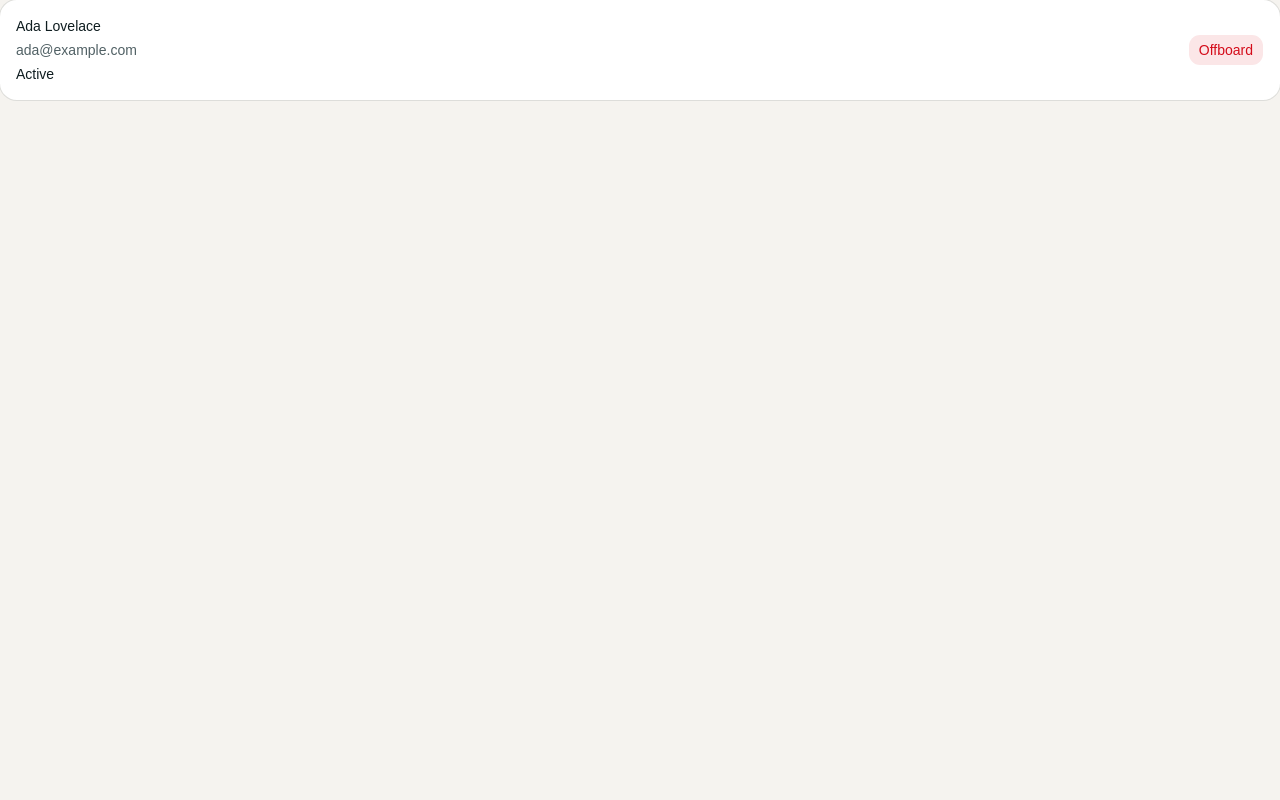
Scenario: MembersAdminPage › explains why an offboarding was refused
The width and height of the screenshot is (1280, 800).
Click the button with aria-label "Offboard Ada Lovelace": coordinates (1226, 50) [1188,34,1264,66]
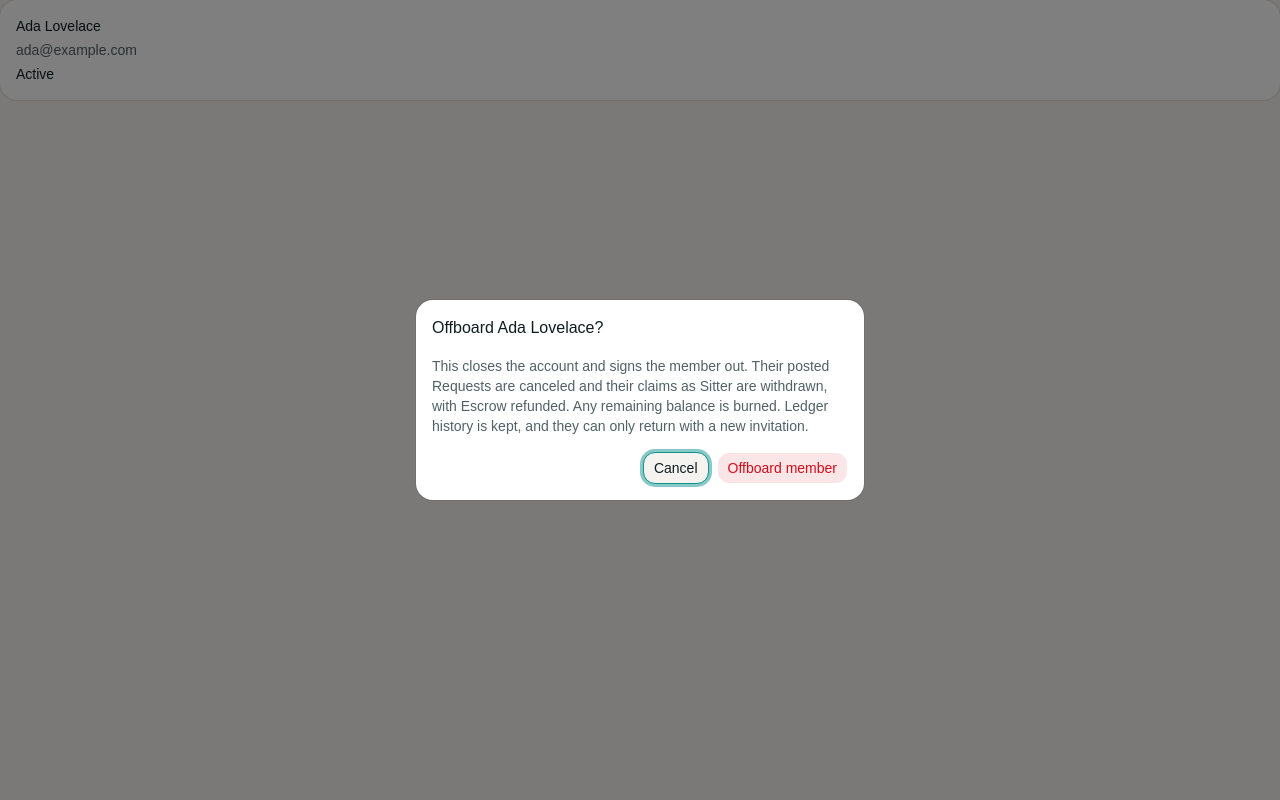
Click the button "Offboard member": coordinates (782, 468) [716,452,848,484]
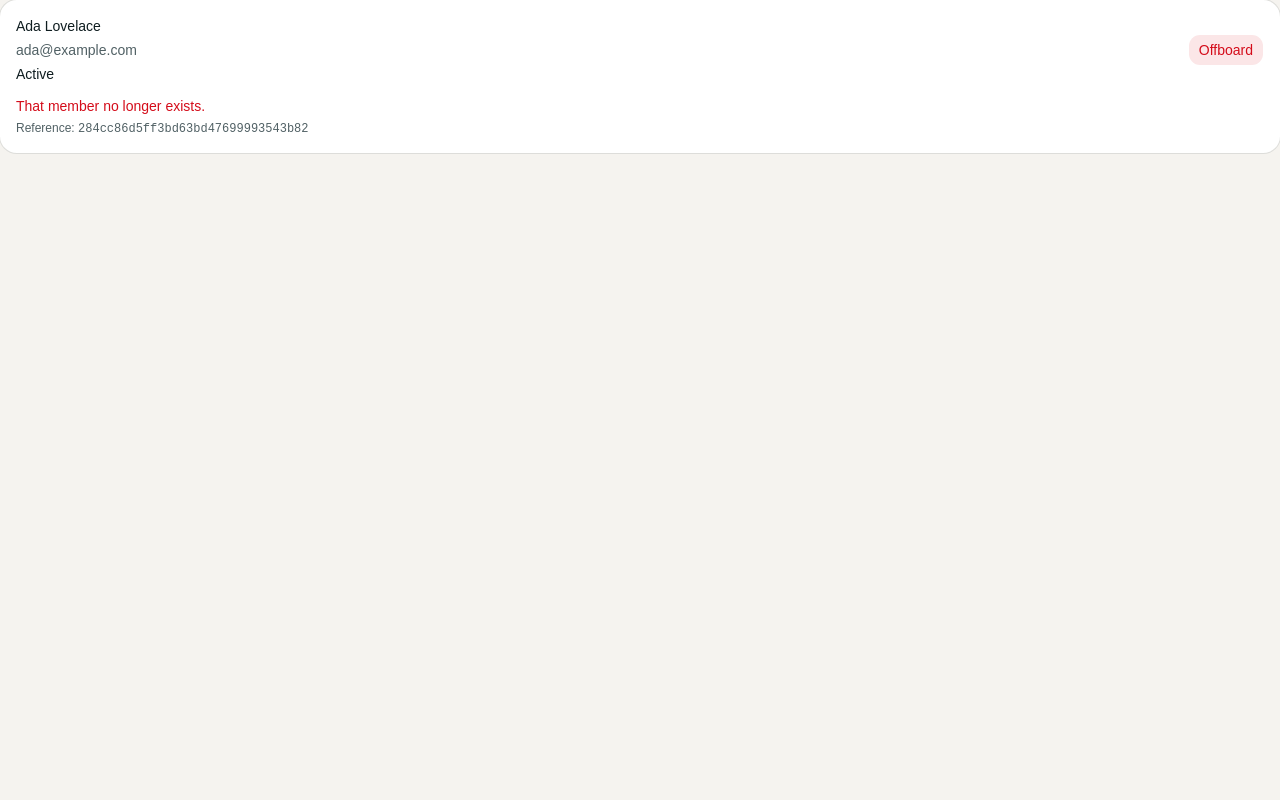
Now the message shows "That member no longer exists.", box [16,98,205,114]
